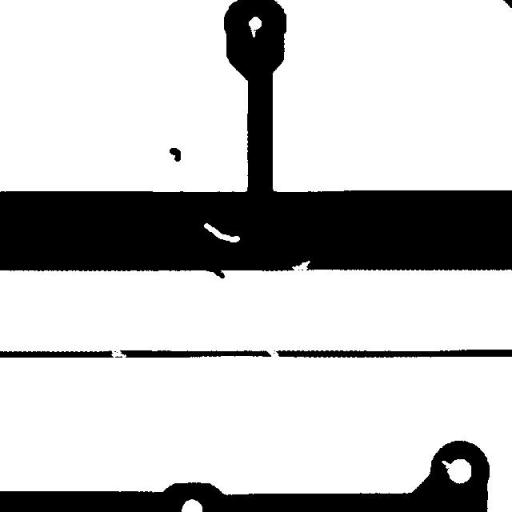copper: (162, 140, 188, 169)
mousebite: (284, 252, 318, 278), (242, 18, 264, 45), (434, 453, 459, 476)
open: (252, 336, 286, 366), (98, 340, 134, 367)
pin-hole: (196, 215, 247, 250)
spur: (198, 259, 232, 286)
